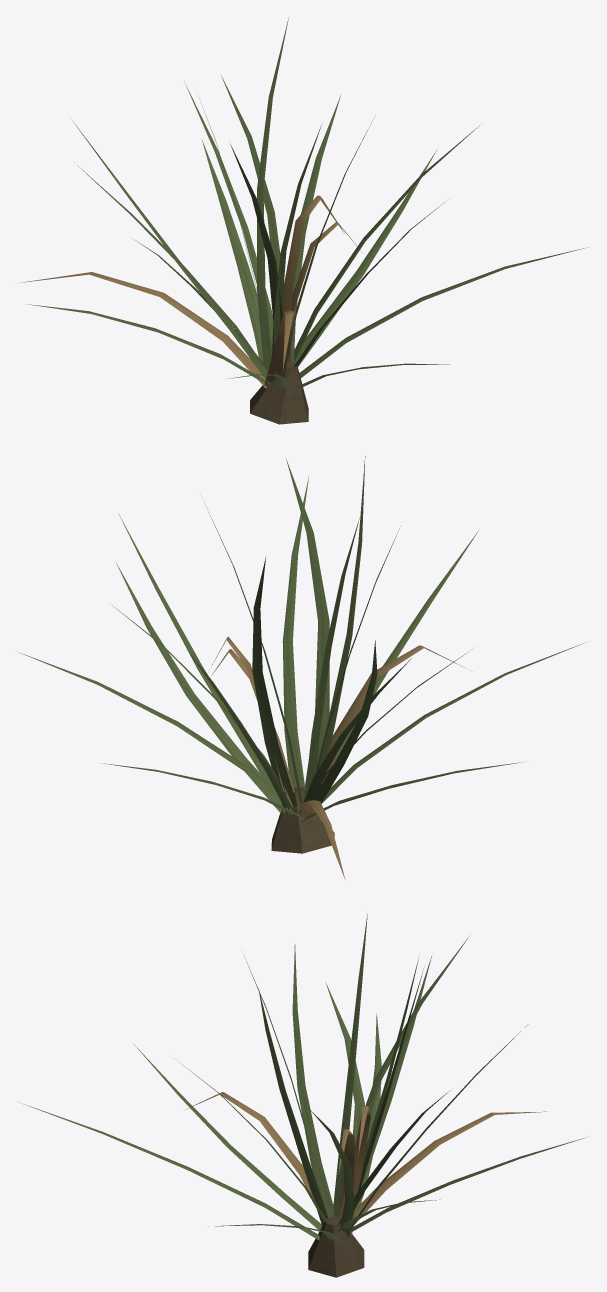
The model's file is SM_CN_Yucca_B_LOD1.fbx.
3 renders of one model, top to bottom at view 1: azimuth 30°, elevation 25°; view 2: azimuth 150°, elevation 25°; view 3: azimuth 270°, elevation 25°, orthographic. The views are drawn at different scales.
Visible parts, largest first — view 1: SM_CN_Yucca_B_LOD1; view 2: SM_CN_Yucca_B_LOD1; view 3: SM_CN_Yucca_B_LOD1.
Part boxes in pixels (<box>): SM_CN_Yucca_B_LOD1: <box>17,17,587,424</box>; SM_CN_Yucca_B_LOD1: <box>18,456,586,879</box>; SM_CN_Yucca_B_LOD1: <box>19,913,586,1277</box>.
Bounding box in the file's own units: 1.48 × 1.64 × 1.05.
